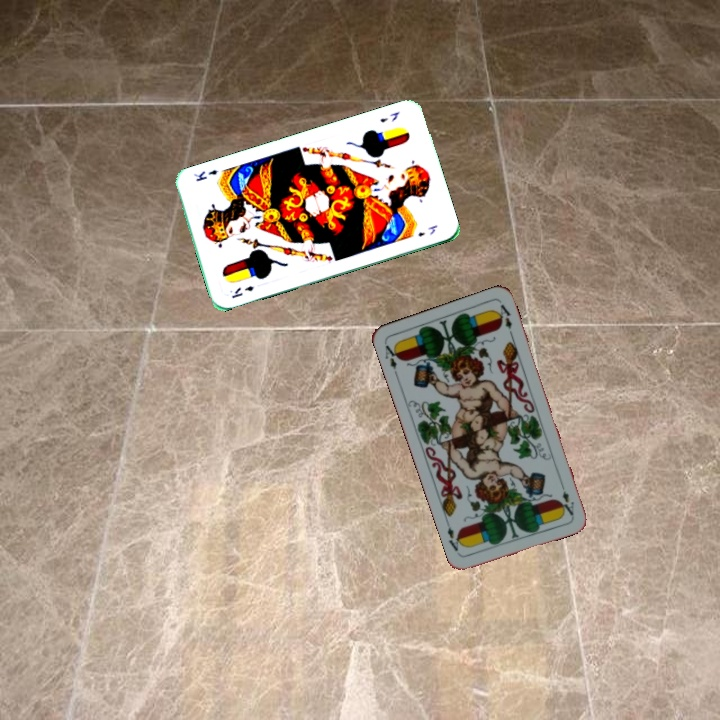EA: (381, 339, 403, 379), (556, 478, 577, 518)
EK: (228, 282, 256, 301), (376, 108, 402, 125)
